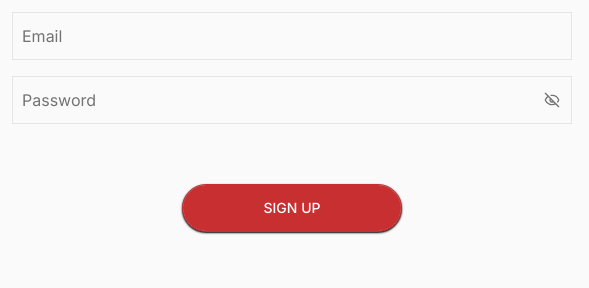
SignupForm › shows the backend error when signup fails
Type "test@test.com" into the field labelled "Email".
click(292, 36); type("test@test.com")  # box [12,12,572,60]
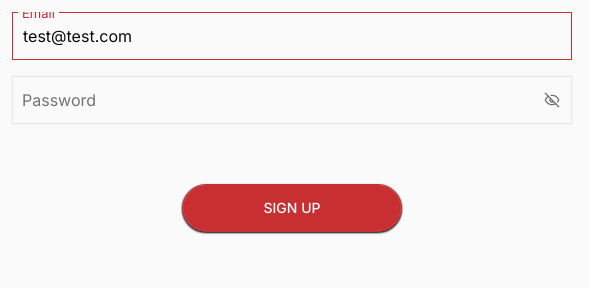
Type "password123" into the password field labelled "Password".
click(292, 100); type("password123")  # box [12,76,572,124]
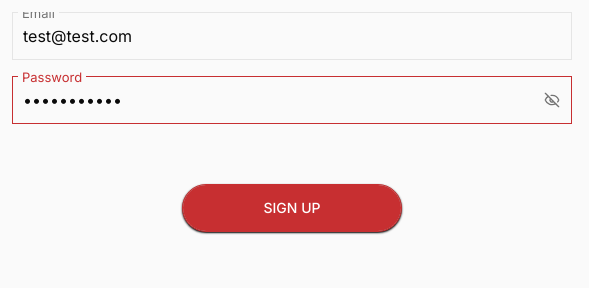
Click the button "SIGN UP".
click(292, 208)  # box [182,184,402,232]
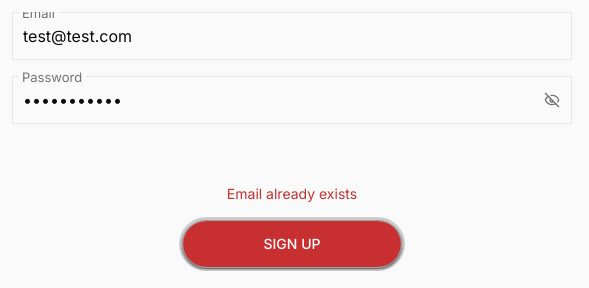
Check: the text "Email already exists" is shown, box [227,184,357,204]
